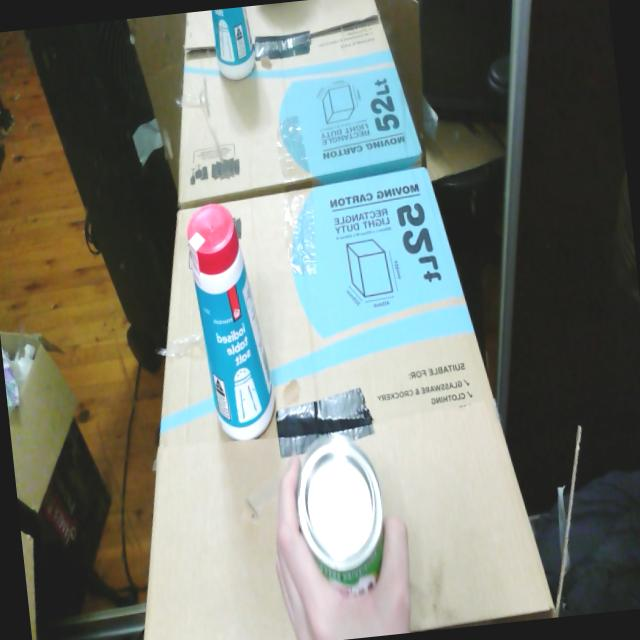nestle_milo_tin: (296, 434, 383, 596)
woolworths_salt_bottle: (186, 204, 274, 439)
